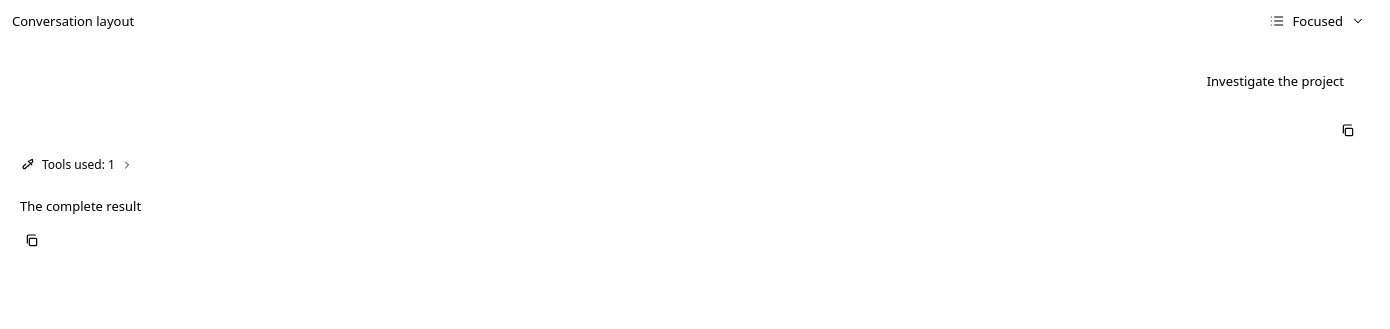
Test: focused conversation interactions › folds completed work, keeps the final reply visible and opens the original process
Expected: the text "The complete result" is shown, [20,197,141,215]
Expected: the text "I am examining the implementation" is not shown
Click the button "Tools used: 1": (76, 165) [20,151,133,179]
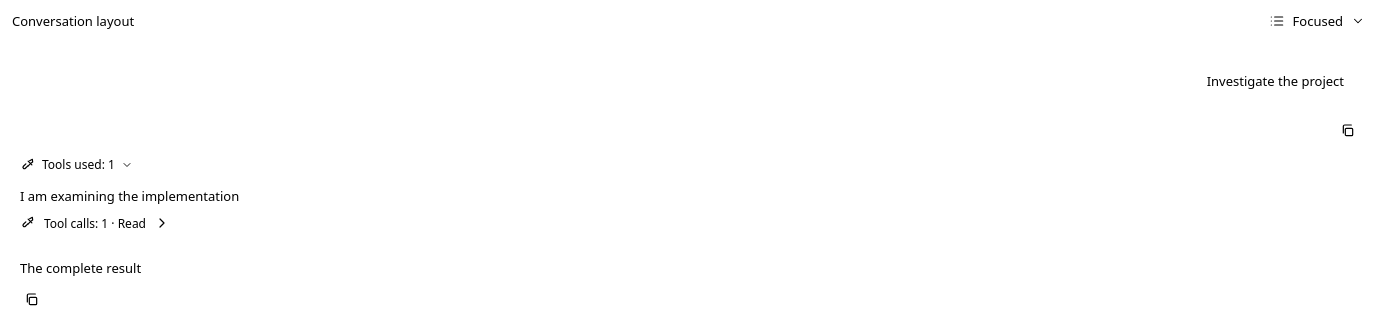
Result: the text "I am examining the implementation" is shown at [20,187,239,205]
Result: the button "Tool calls: 1 · Read" is shown at [20,209,1346,237]
